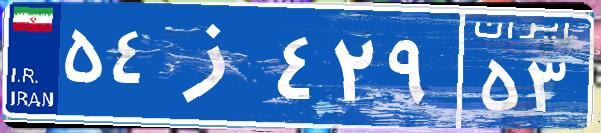2: (330, 28, 385, 110)
3: (525, 38, 570, 115)
4: (273, 28, 330, 110), (110, 28, 158, 105)
5: (57, 26, 110, 107), (475, 38, 525, 113)
9: (385, 28, 445, 110)
ز: (158, 15, 273, 115)
